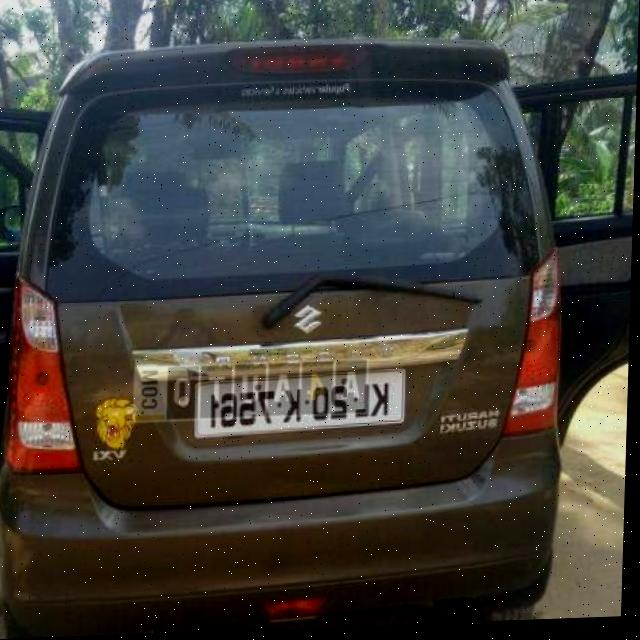plate: (196, 373, 408, 441)
